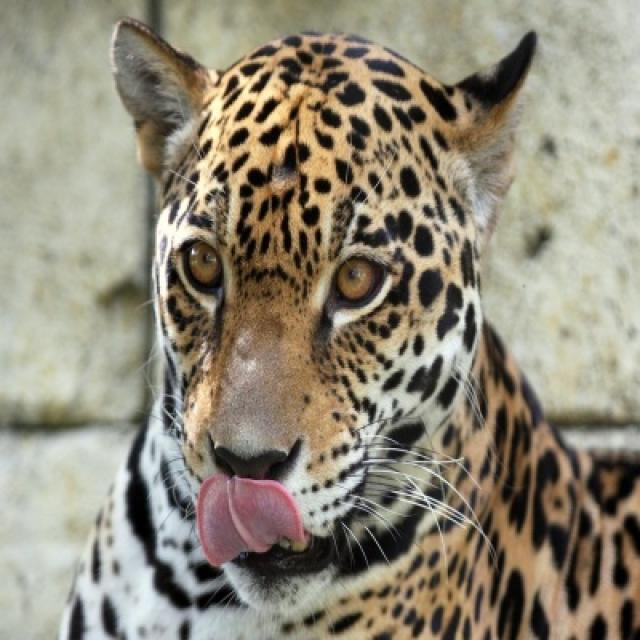Jaguar: (41, 0, 638, 638)
